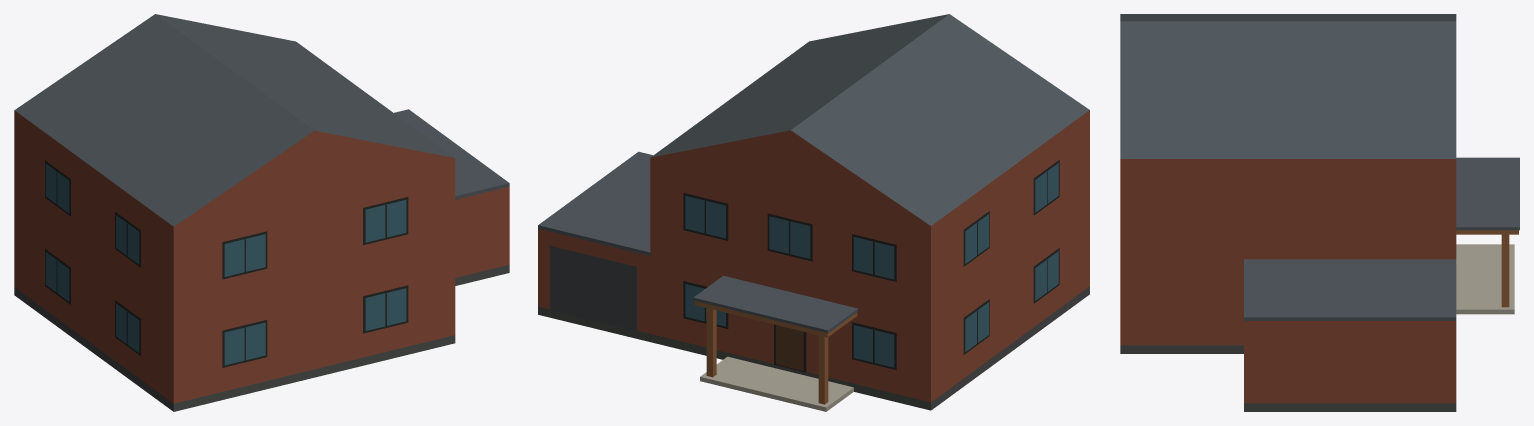
The picture shows the model from 3 angles, left to right: view 1: azimuth 30°, elevation 25°; view 2: azimuth 150°, elevation 25°; view 3: azimuth 270°, elevation 25°; orthographic projection. The views are drawn at different scales.
Bounding box in the file's own units: 14.07 × 8.38 × 11.72.
